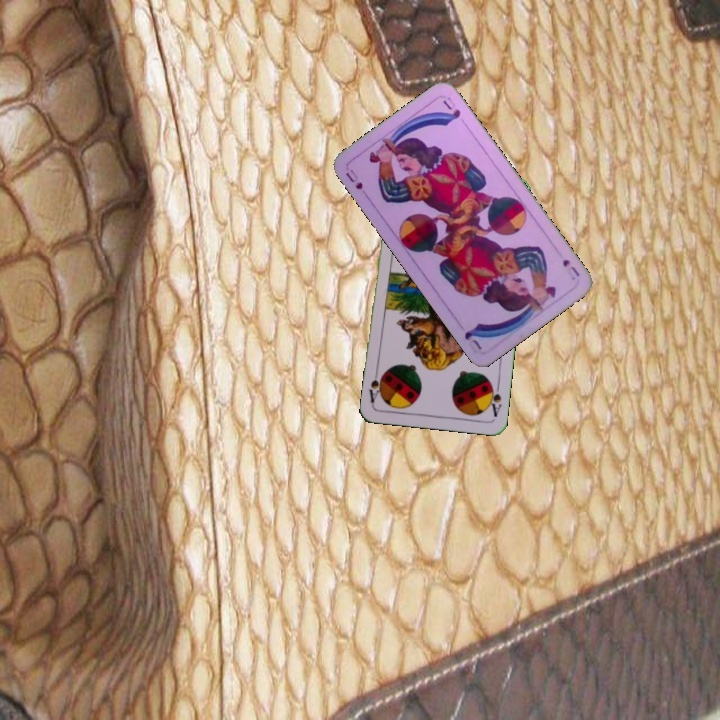SA: (484, 378, 505, 420)
SU: (341, 165, 371, 200), (558, 255, 582, 283)
